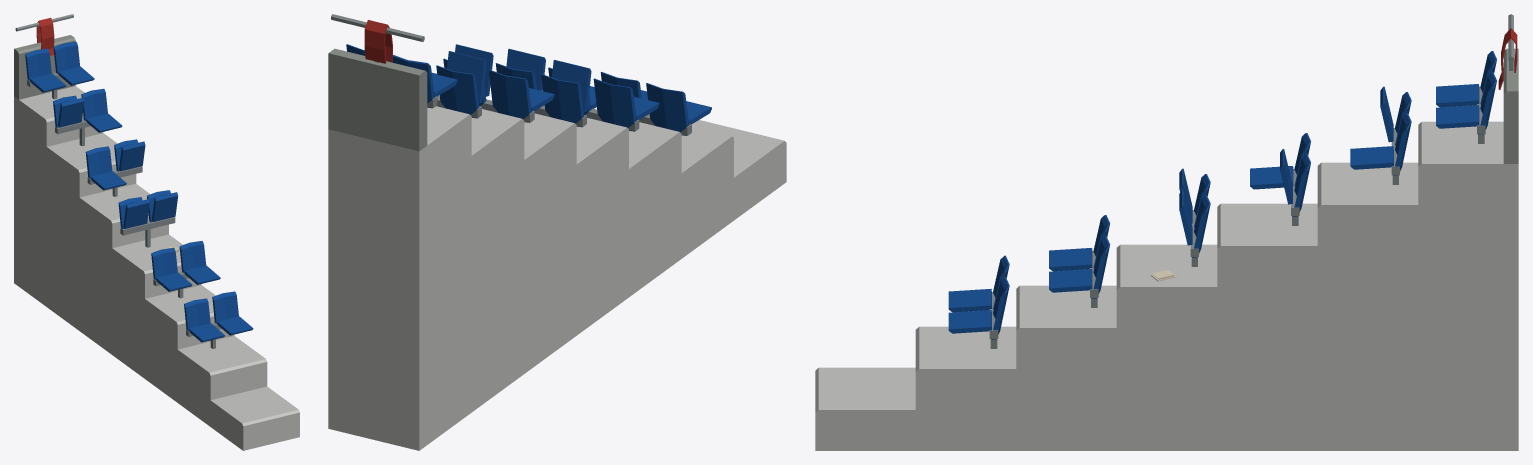
File: grandstand.glb
3 renders of one model, left to right at view 1: azimuth 30°, elevation 25°; view 2: azimuth 150°, elevation 25°; view 3: azimuth 270°, elevation 25°, orthographic. The views are drawn at different scales.
Visible parts, largest first — view 1: deck, scarf-mesh; view 2: deck, scarf-mesh; view 3: deck.
Boxes of the visible parts, <box> form: deck: <box>14,14,299,450</box>; scarf-mesh: <box>36,17,54,55</box>; deck: <box>328,14,786,450</box>; scarf-mesh: <box>364,20,392,63</box>; deck: <box>815,14,1518,450</box>.
Size of the model in its own units: 1 by 4.36 by 7.
